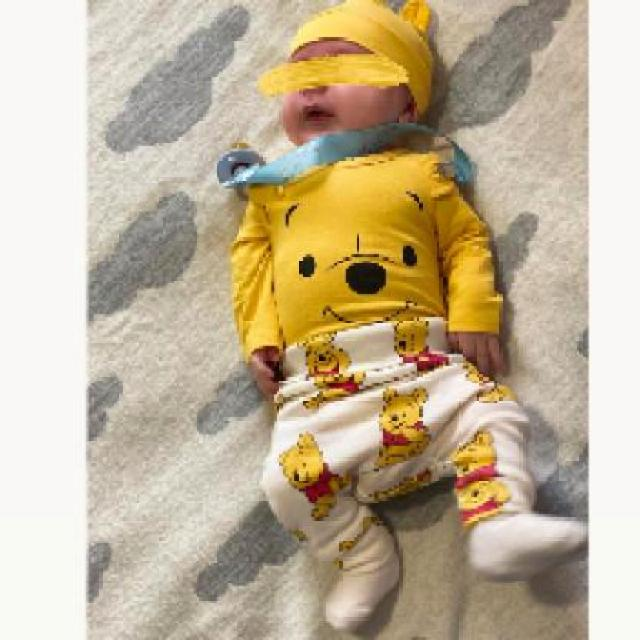child: (226, 1, 588, 638)
